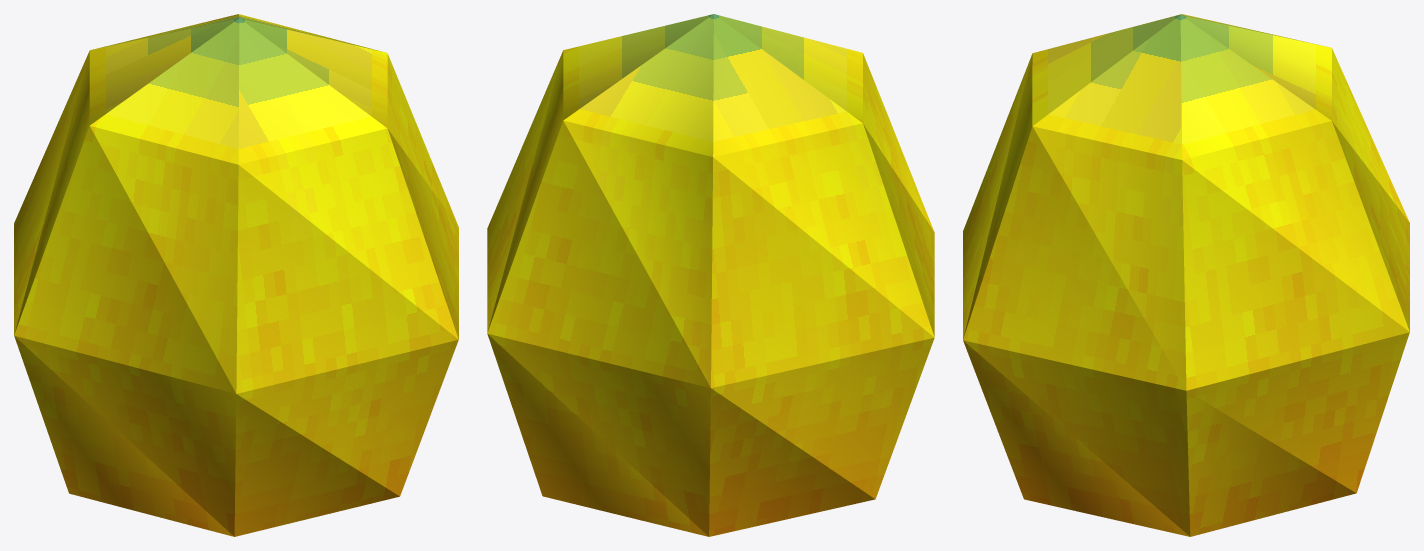
File: Chao Garden Nut.obj
3 views of the same model, side by side, from view 1: azimuth 30°, elevation 25°; view 2: azimuth 150°, elevation 25°; view 3: azimuth 270°, elevation 25° (orthographic).
Visible parts, largest first — view 1: Mesh_0156; view 2: Mesh_0156; view 3: Mesh_0156.
Part boxes in pixels (x1,y1,x2,y2): Mesh_0156: (14,14,458,536); Mesh_0156: (487,14,934,536); Mesh_0156: (963,14,1409,536).
Bounding box in the file's own units: 2.85 × 3.12 × 2.47.
Materials: 1 (1 with a texture image).
